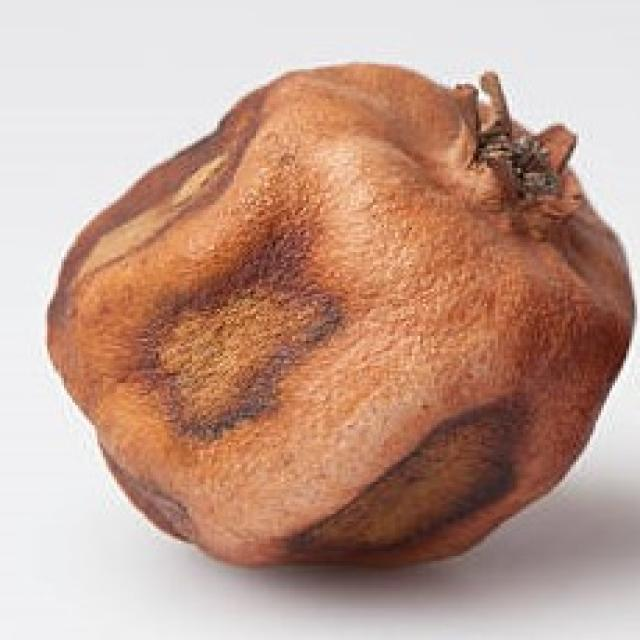overripe: (41, 58, 640, 575)
